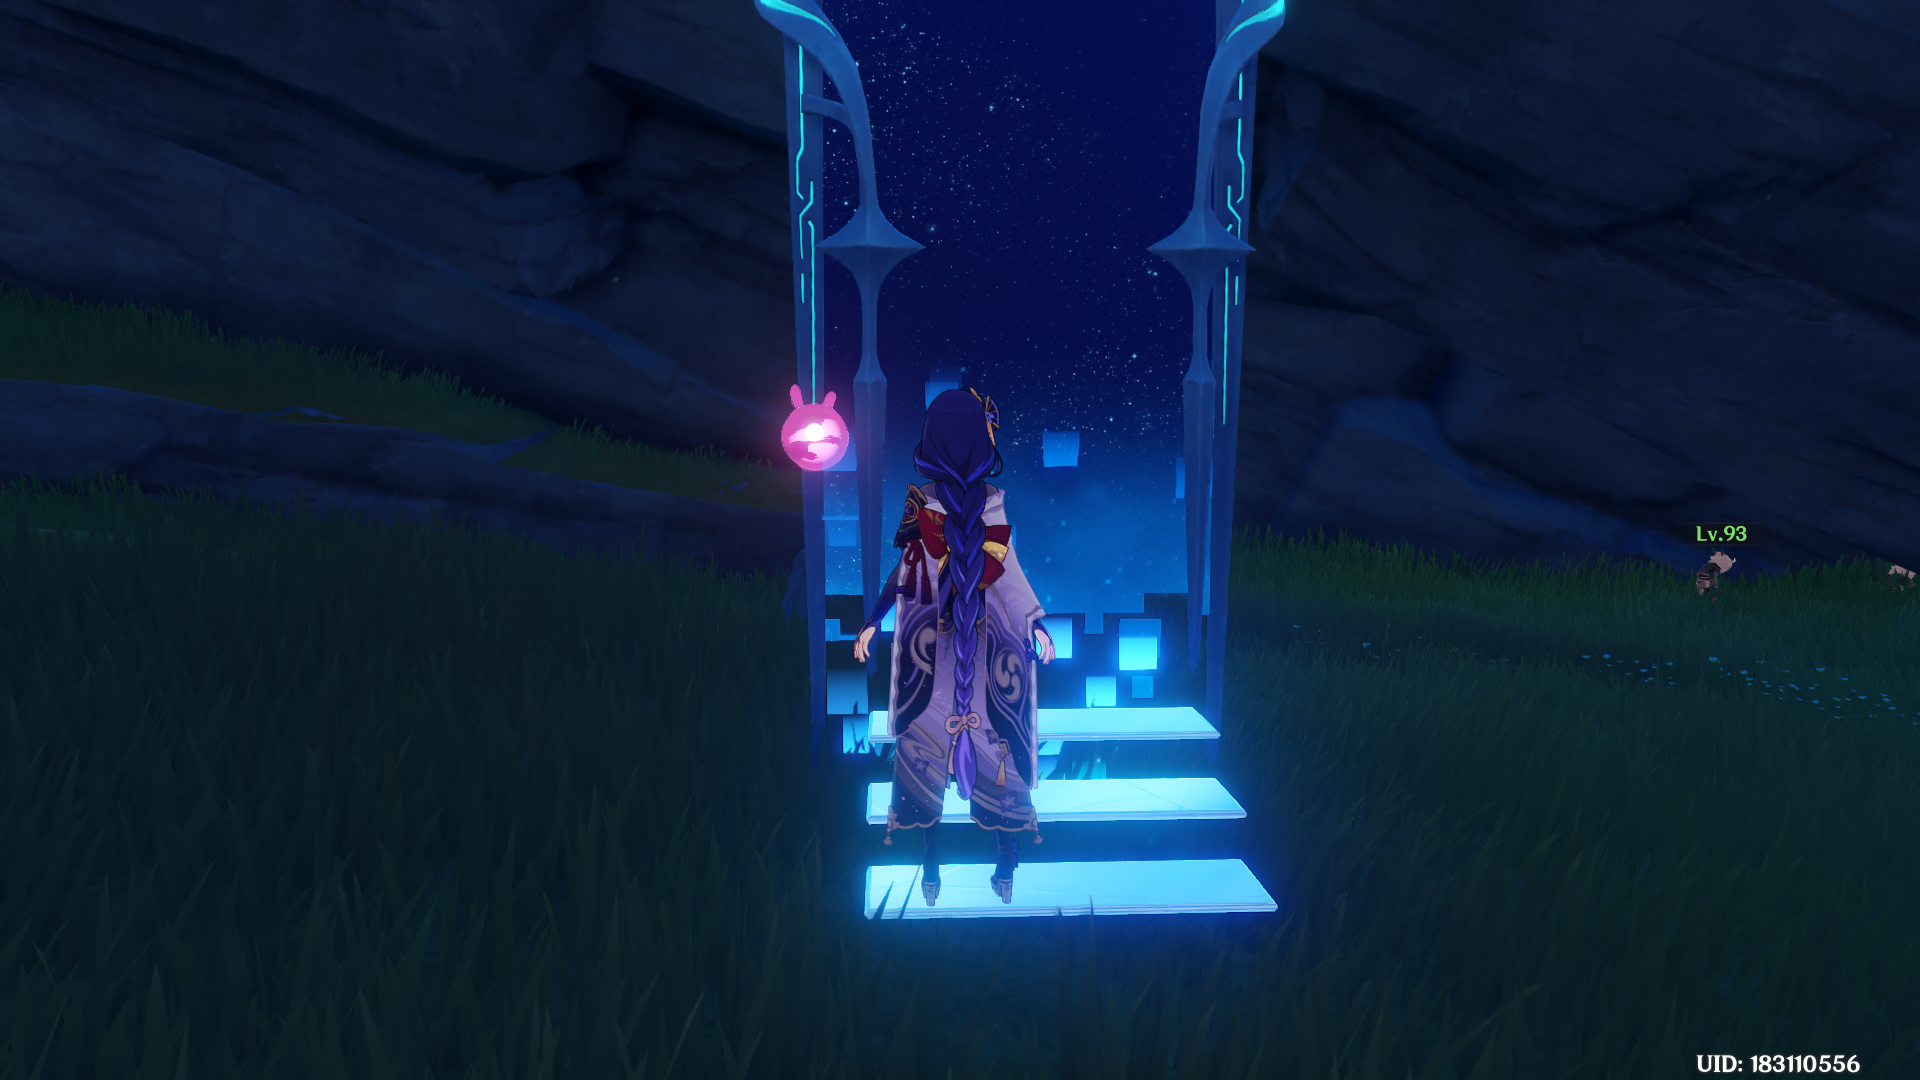character: (804, 353, 1116, 924)
hili: (1669, 546, 1755, 607)
